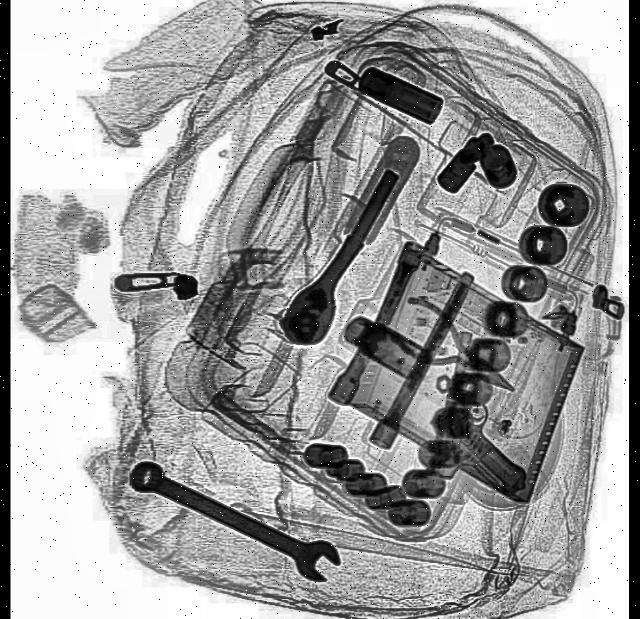Gun: (430, 325, 545, 494)
Pliers: (383, 284, 526, 414)
Wrench: (125, 443, 342, 588)
